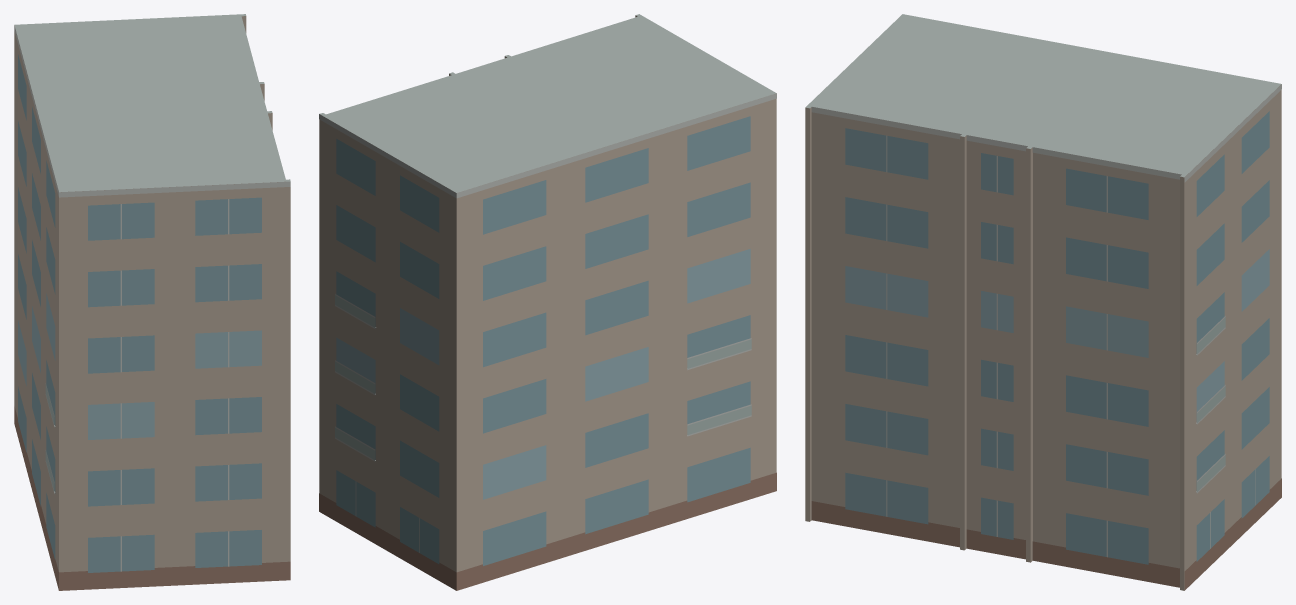
File: survey-upis-32532792.glb
The picture shows the model from 3 angles, left to right: view 1: azimuth 30°, elevation 25°; view 2: azimuth 150°, elevation 25°; view 3: azimuth 270°, elevation 25°; orthographic projection. The views are drawn at different scales.
Visible parts, largest first — view 1: survey-upis-32532792.tmp; view 2: survey-upis-32532792.tmp; view 3: survey-upis-32532792.tmp.
Part boxes in pixels (x1,y1,x2,y2): survey-upis-32532792.tmp: [14, 14, 290, 590]; survey-upis-32532792.tmp: [319, 14, 776, 590]; survey-upis-32532792.tmp: [805, 14, 1281, 590].
Bounding box in the file's own units: 15.39 × 18.15 × 18.97.
